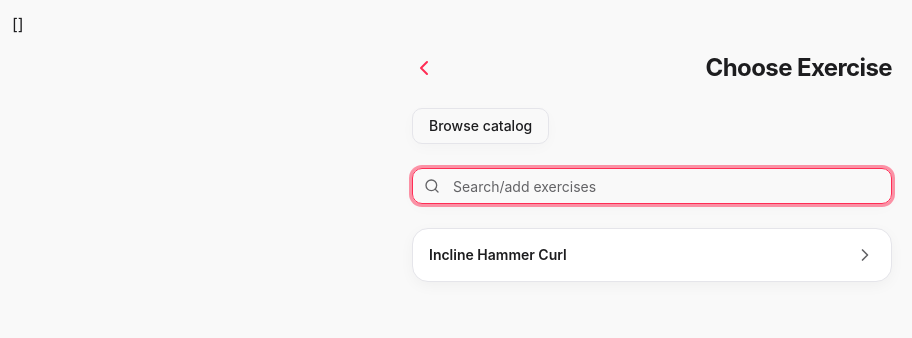
Test case: AddExerciseScreen › allows creating an exercise when the search is only a partial match
In the field named "Search exercises": (652, 186) 412,168 -> 892,204, type "Hammer Curl"
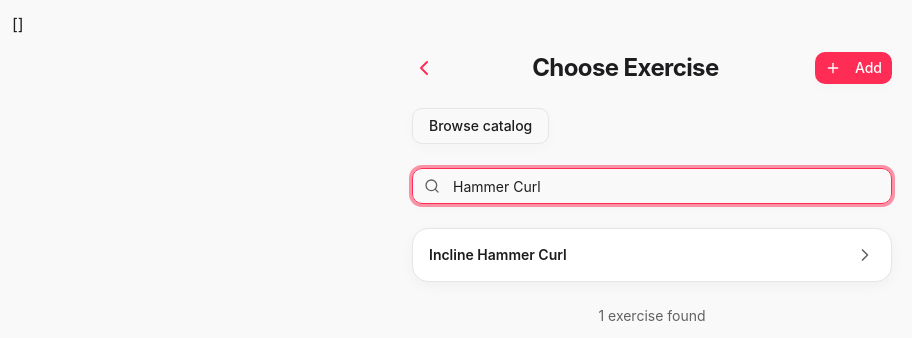
Expected: the text "Incline Hammer Curl" is shown, 429,245 -> 567,265
Expected: the button "Add" is shown, 815,52 -> 892,84
